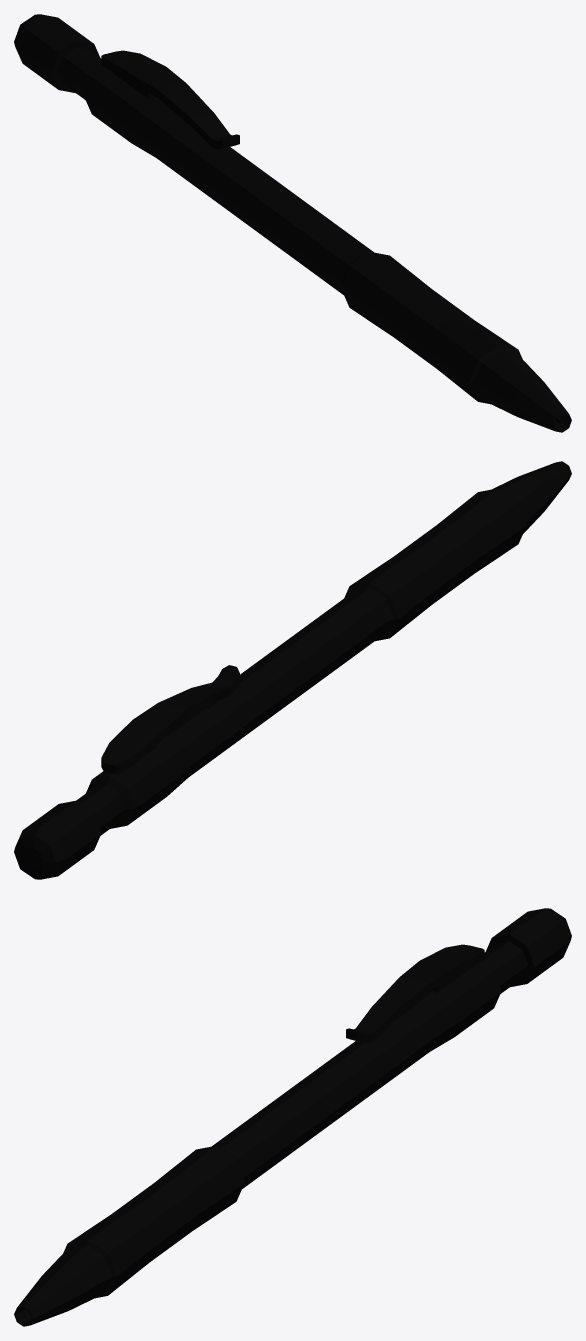
3 views of the same model, one above another, from view 1: azimuth 30°, elevation 25°; view 2: azimuth 150°, elevation 25°; view 3: azimuth 330°, elevation 25° (orthographic).
Parts seen in each view (by area): view 1: LP_TD_Checker_0; view 2: LP_TD_Checker_0; view 3: LP_TD_Checker_0.
Boxes of the visible parts, x1,y1,x2,y2 form: LP_TD_Checker_0: (14, 14, 571, 432); LP_TD_Checker_0: (14, 461, 571, 879); LP_TD_Checker_0: (14, 908, 571, 1326).
Bounding box in the file's own units: 54.85 × 73.78 × 879.
